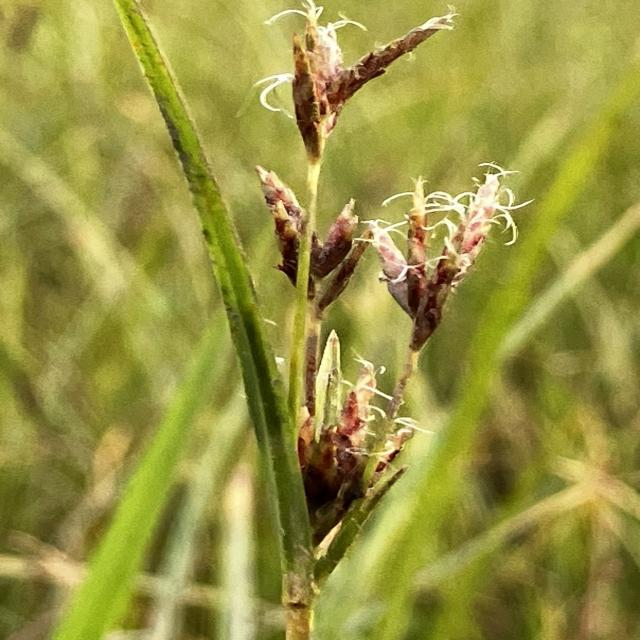cyperus: (210, 0, 527, 580)
